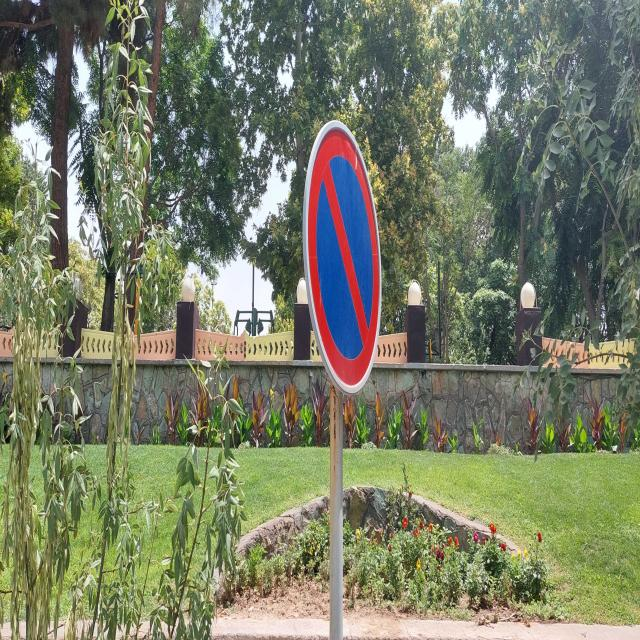forb_stopping: (303, 117, 383, 397)
